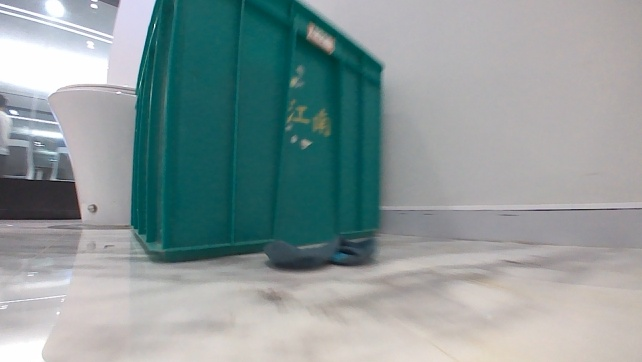socks: (262, 232, 376, 271)
toilet: (44, 78, 138, 228)
